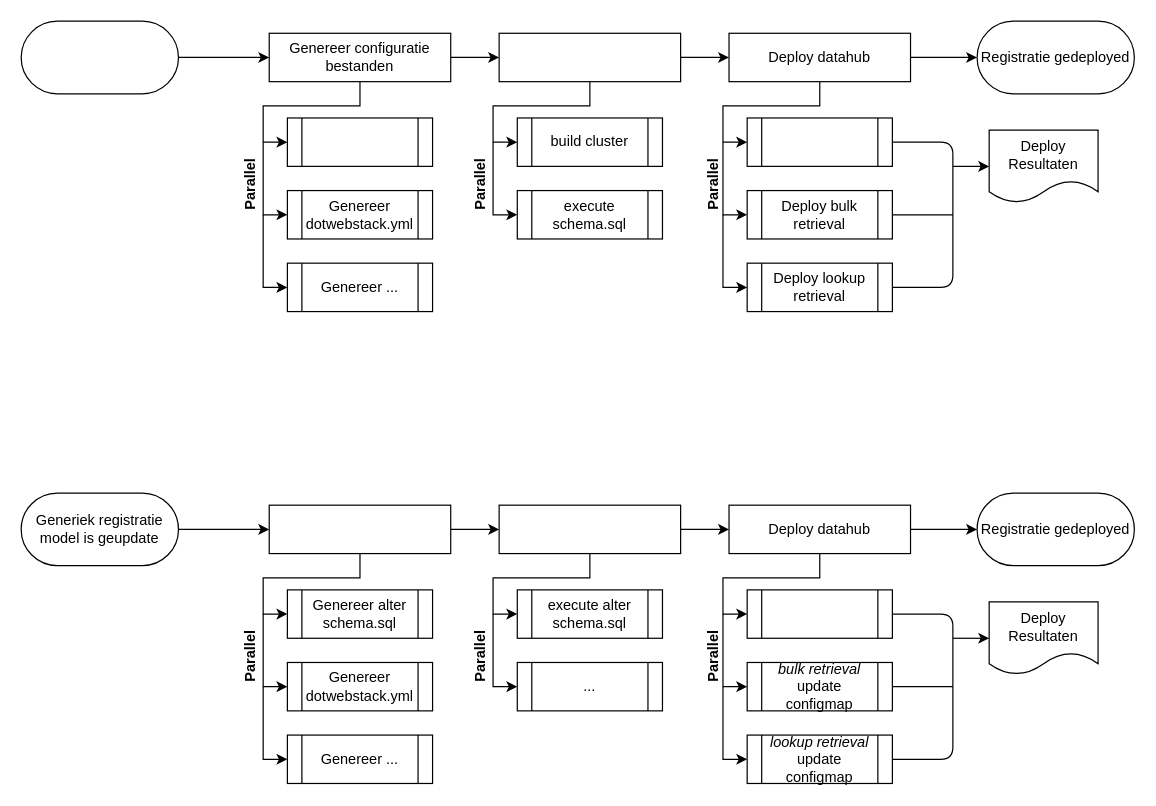
This 1156x806 diagram has some shape labels left out. The box of each missing label's shape, as (x1, y1, x2, y2) in pixels:
Creëer database cluster: (498, 32, 681, 82)
Deploy ingestion: (746, 117, 892, 166)
Genereer schema.sql: (286, 117, 433, 166)
Generiek registratie model is aangeleverd: (20, 20, 178, 94)
ingestion update configmap: (746, 589, 892, 638)
Update configuratie bestanden: (268, 504, 451, 554)
Update database cluster: (498, 504, 681, 554)
